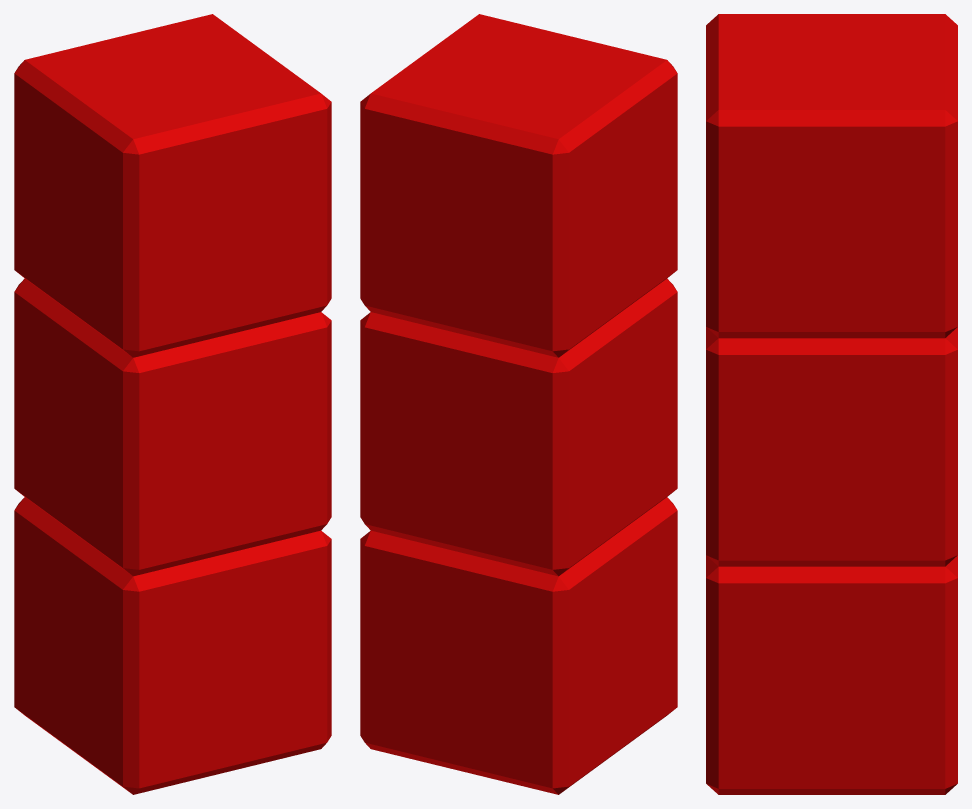
The model's file is TorchVoxel.fbx.
3 views of the same model, side by side, from view 1: azimuth 30°, elevation 25°; view 2: azimuth 150°, elevation 25°; view 3: azimuth 270°, elevation 25° (orthographic). The views are drawn at different scales.
Parts seen in each view (by area): view 1: polySurface476; view 2: polySurface476; view 3: polySurface476.
Boxes of the visible parts, x1,y1,x2,y2 form: polySurface476: [14, 14, 331, 794]; polySurface476: [360, 14, 677, 794]; polySurface476: [706, 14, 957, 794].
Bounding box in the file's own units: 0.5 × 1.5 × 0.5.
